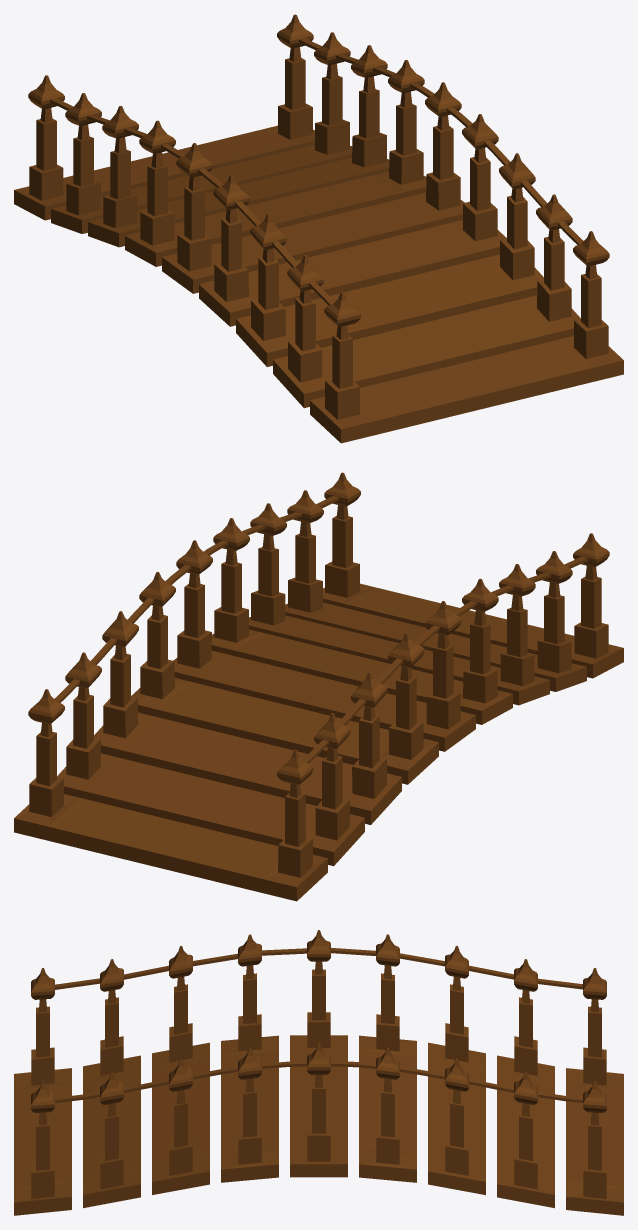
Rendered from Bridge2.fbx.
The picture shows the model from 3 angles, top to bottom: view 1: azimuth 30°, elevation 25°; view 2: azimuth 150°, elevation 25°; view 3: azimuth 270°, elevation 25°; orthographic projection. The views are drawn at different scales.
Parts seen in each view (by area): view 1: Ramp2blocks; view 2: Ramp2blocks; view 3: Ramp2blocks.
Part boxes in pixels (<box>): Ramp2blocks: <box>14,14,623,443</box>; Ramp2blocks: <box>14,472,623,901</box>; Ramp2blocks: <box>14,930,623,1215</box>.
Size of the model in its own units: 141 by 84.09 by 283.
